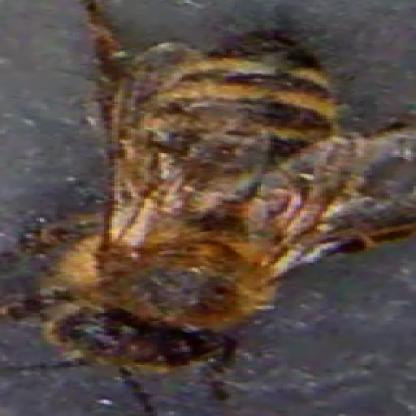bee: (50, 26, 338, 369)
